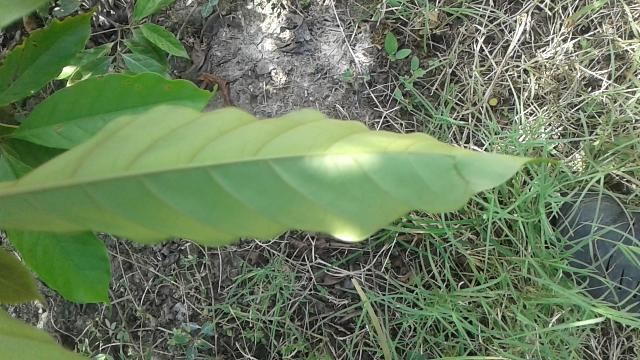healthy: (0, 101, 572, 250)
